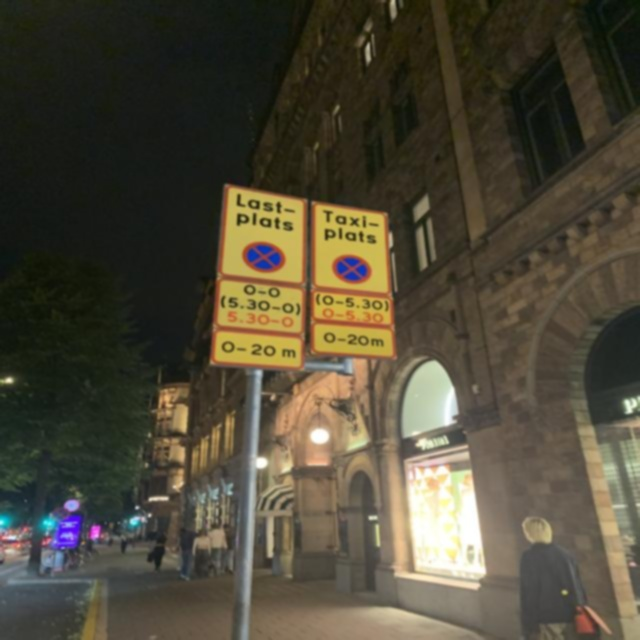lastplats: (220, 183, 308, 287)
